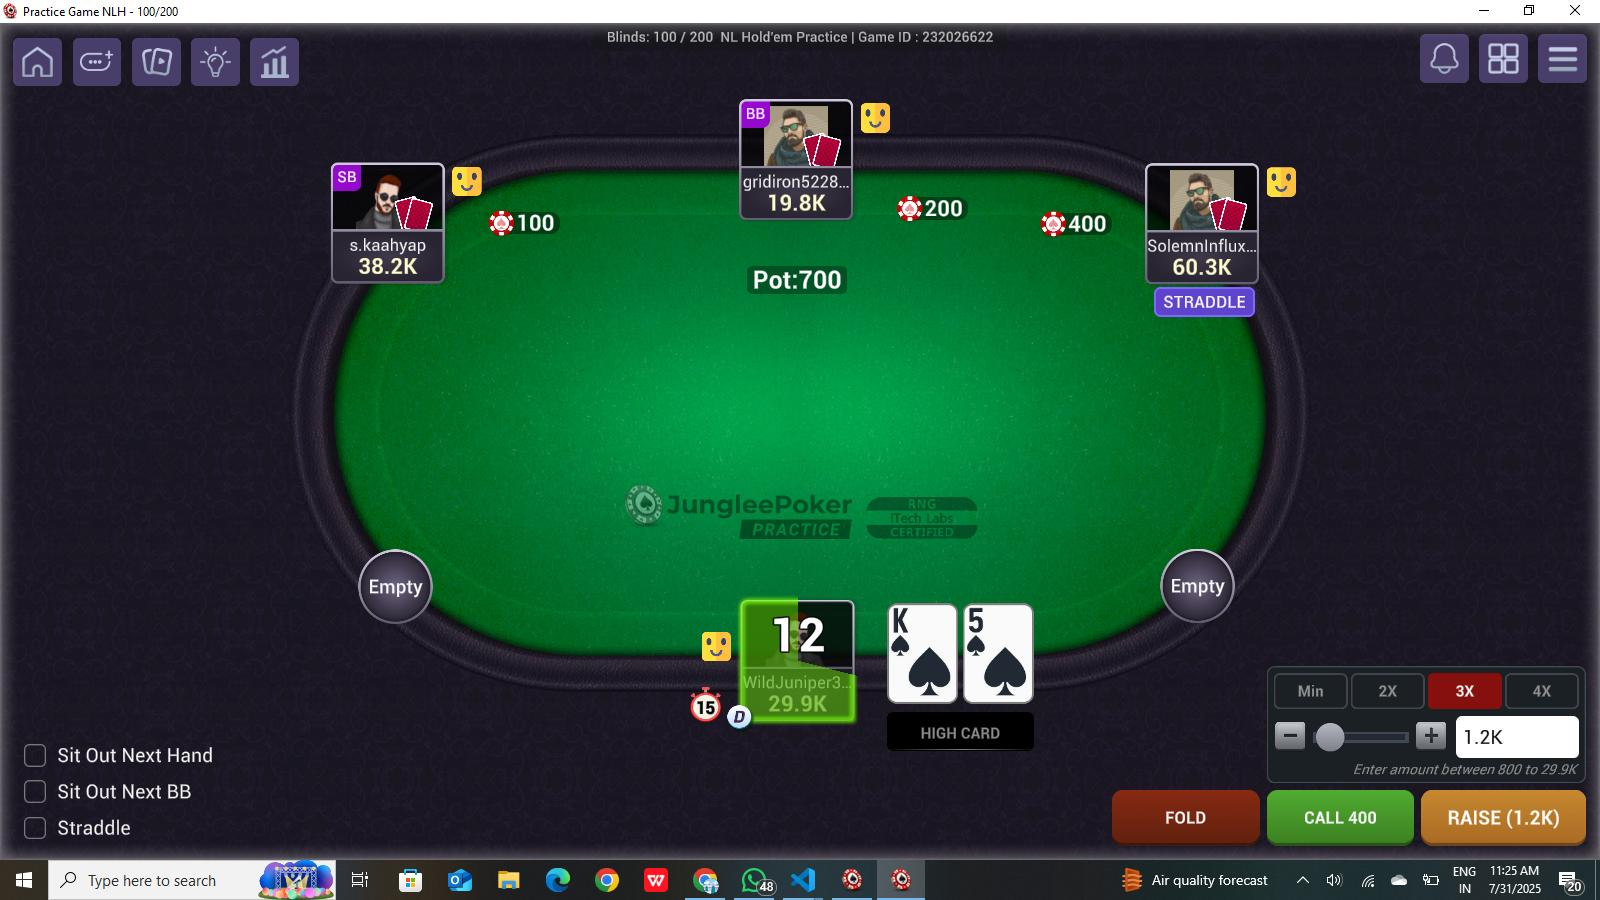button_call: (1266, 789, 1412, 845)
button_fold: (1113, 790, 1257, 845)
button_raise: (1424, 792, 1588, 846)
card1_rank: (890, 604, 962, 644)
card1_suite_spades: (905, 643, 960, 700)
card2_rank: (962, 604, 1031, 643)
card2_suite_spades: (976, 641, 1031, 703)
game_id: (851, 23, 1001, 53)
iinput_field: (1458, 716, 1579, 757)
my_stack: (740, 689, 855, 715)
position_BB: (740, 97, 770, 130)
position_SB: (330, 163, 369, 195)
total_pot: (746, 263, 848, 297)
villian2_bet: (488, 207, 563, 241)
villian2_name: (327, 231, 448, 254)
villian2_stack: (338, 251, 443, 285)
villian3_bet: (896, 192, 970, 226)
villian3_name: (736, 165, 854, 195)
villian3_stack: (742, 185, 851, 216)
villian4_bet: (1040, 211, 1109, 240)
villian4_name: (1148, 231, 1256, 257)
villian4_stack: (1148, 255, 1260, 288)
